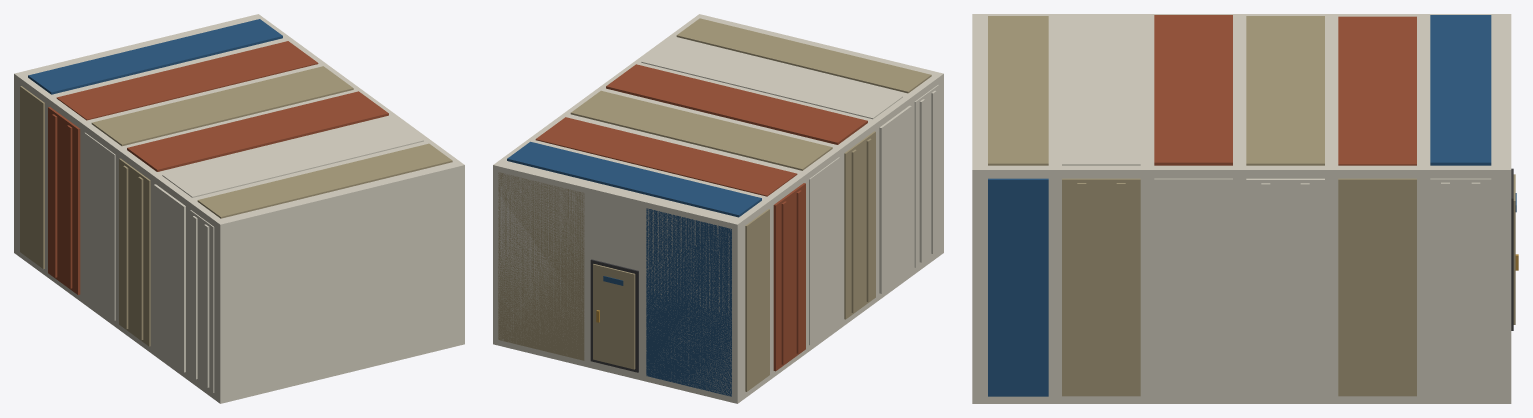
The model's file is hold100_shell.obj.
3 renders of one model, left to right at view 1: azimuth 30°, elevation 25°; view 2: azimuth 150°, elevation 25°; view 3: azimuth 270°, elevation 25°, orthographic. The views are drawn at different scales.
Visible parts, largest first — view 1: hold100_shell; view 2: hold100_shell; view 3: hold100_shell.
Part boxes in pixels (x1=…): hold100_shell: x1=14, y1=14, x2=464, y2=403; hold100_shell: x1=493, y1=14, x2=943, y2=403; hold100_shell: x1=972, y1=14, x2=1518, y2=403.
Bounding box in the file's own units: 5.11 × 3.56 × 7.34.
